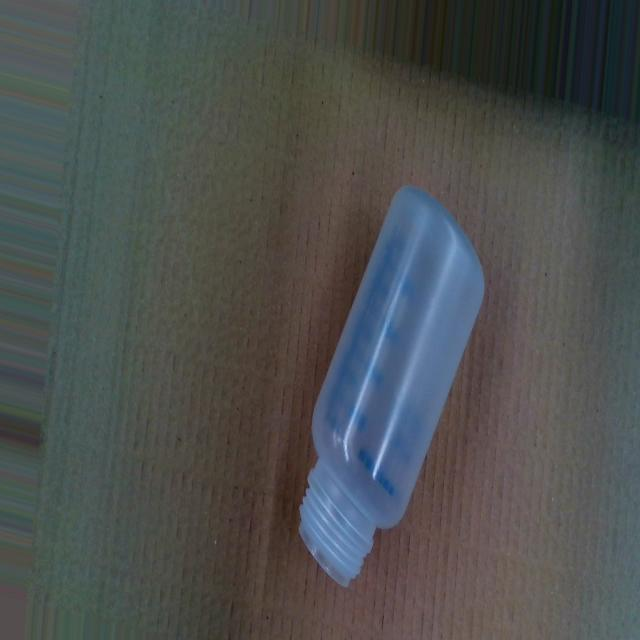bottle: (294, 180, 486, 597)
